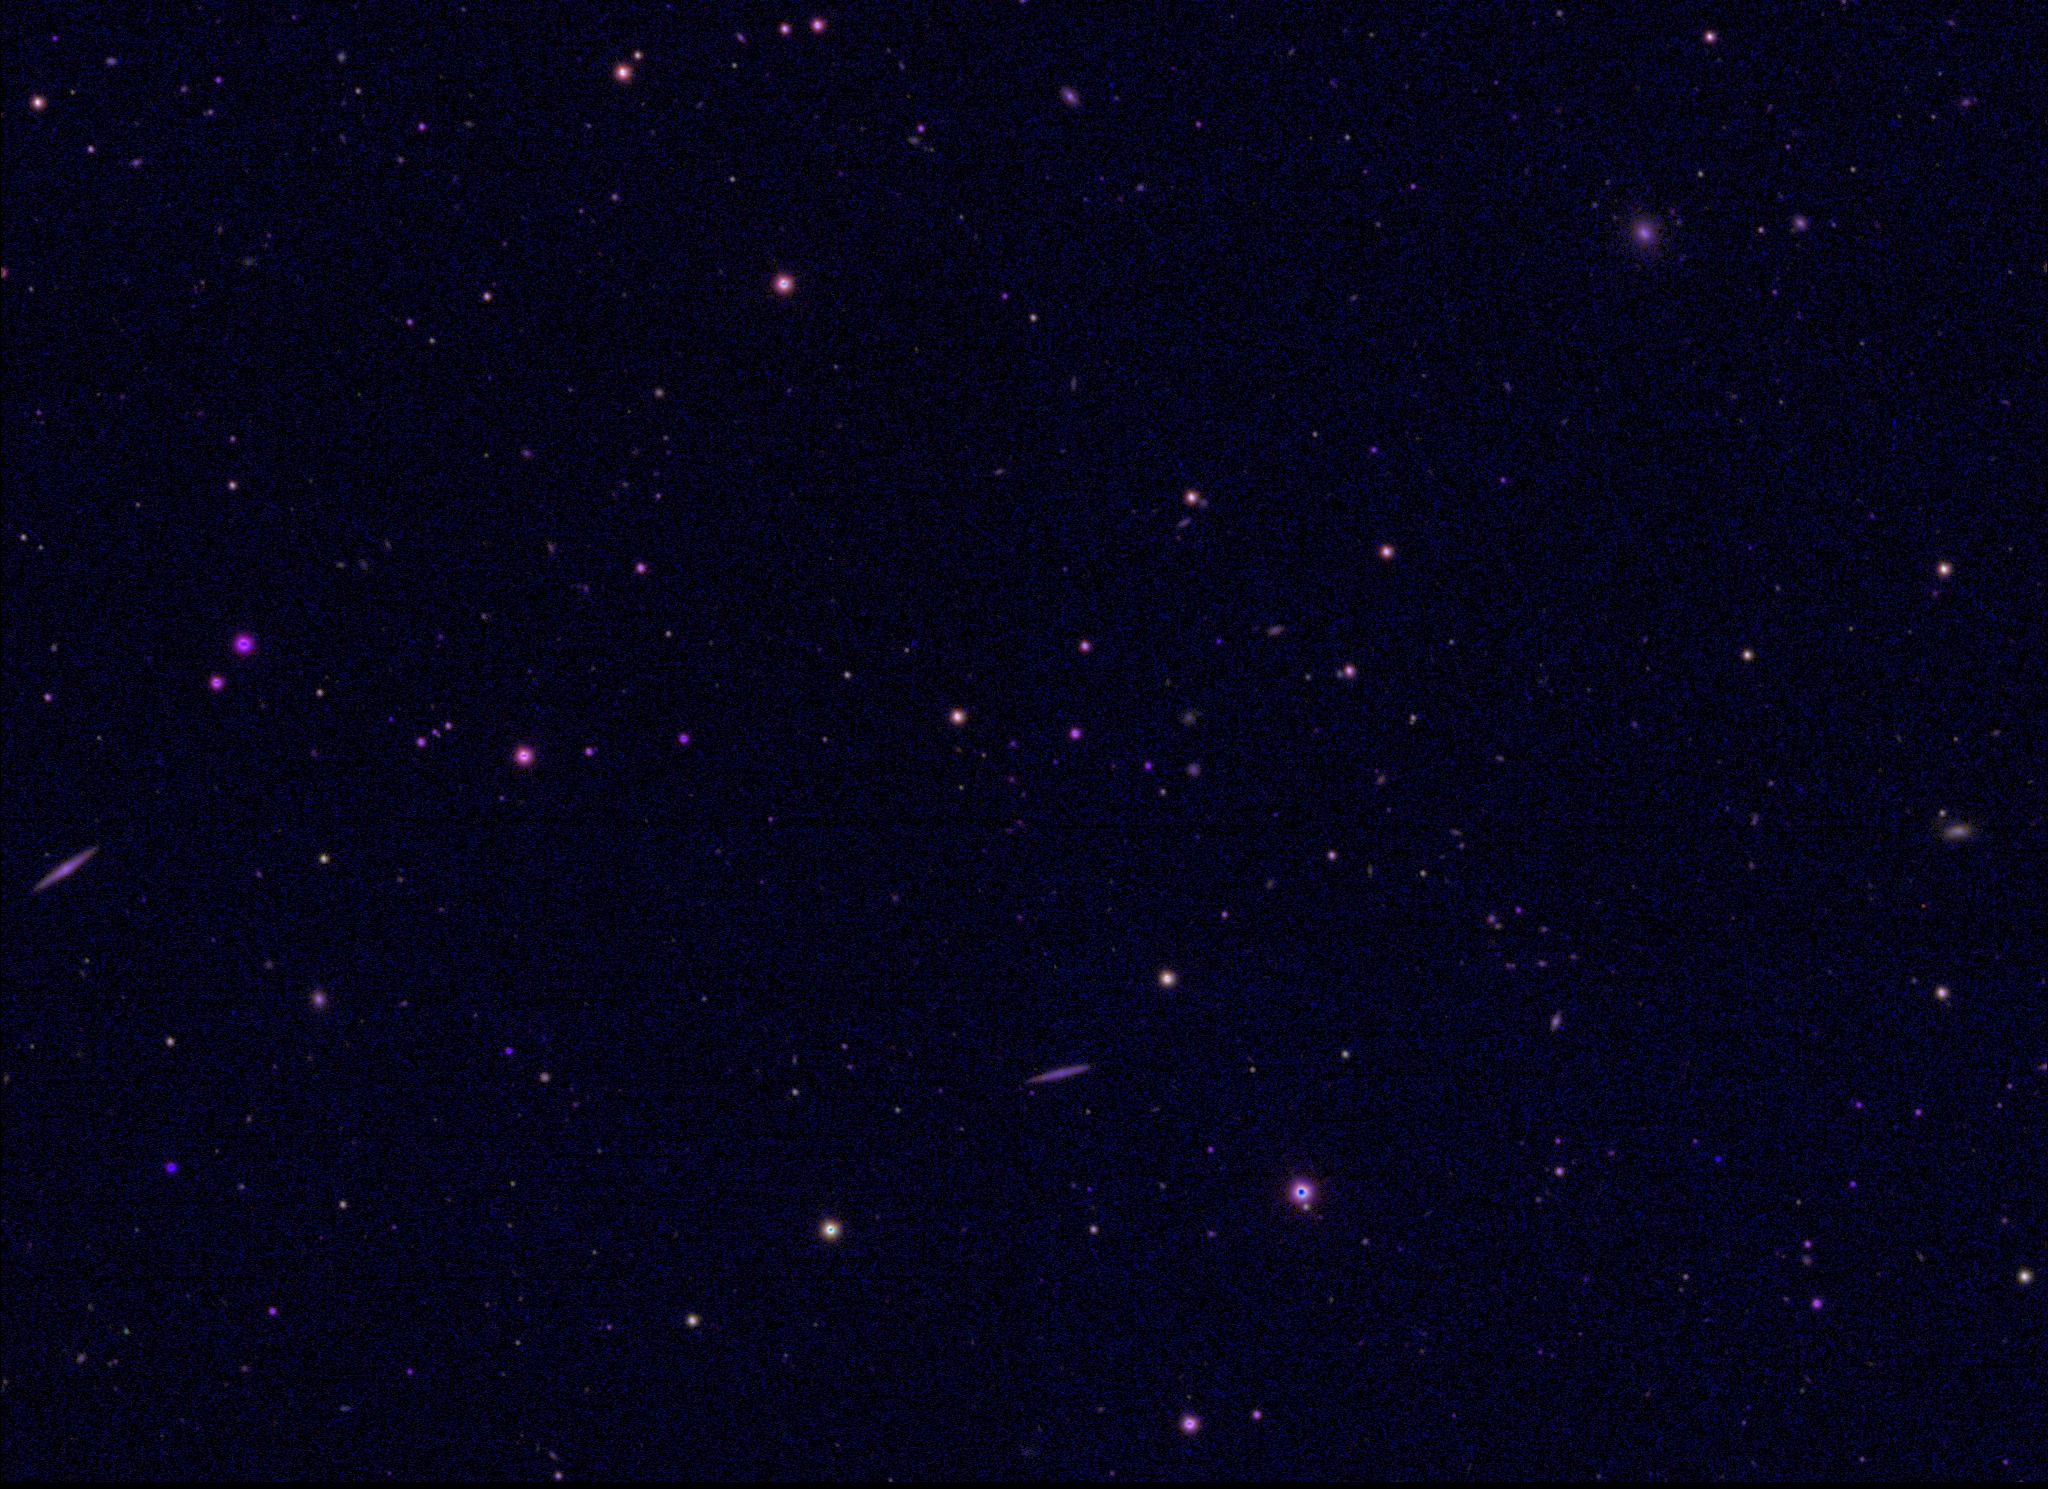L: (1711, 1152, 1725, 1166)
